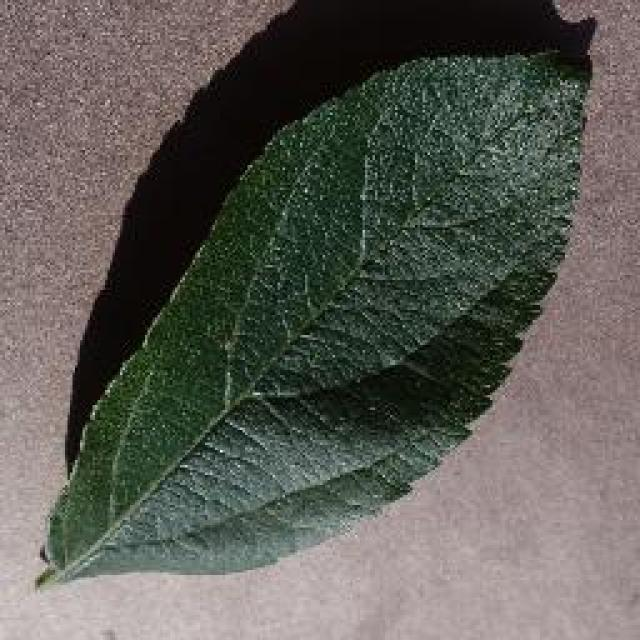apple healthy: (35, 0, 597, 590)
